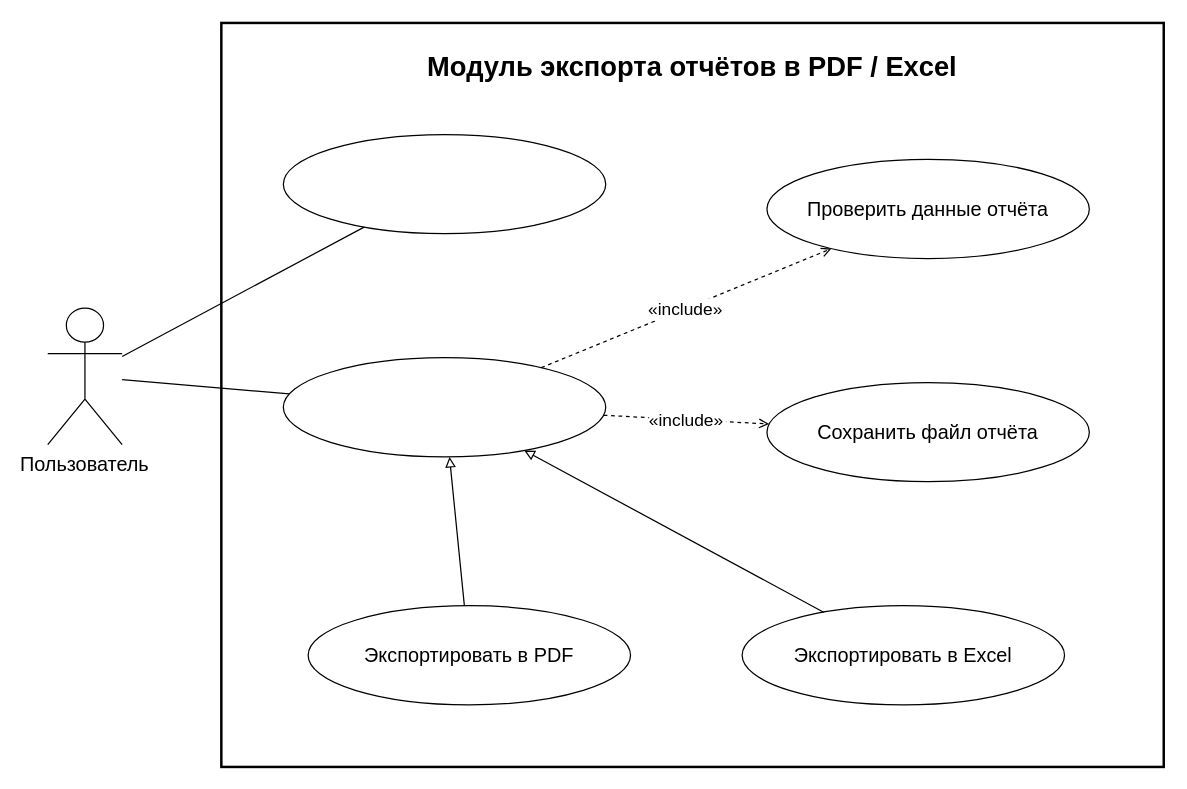
This 1187x789 diagram has some shape labels left out. The shapes that lost their labels are listed below. From the top down, each one's centre as x and y in pixels, then its label:
At [444,183]: "Подготовить данные отчёта".
At [444,406]: "Экспортировать отчёт".
